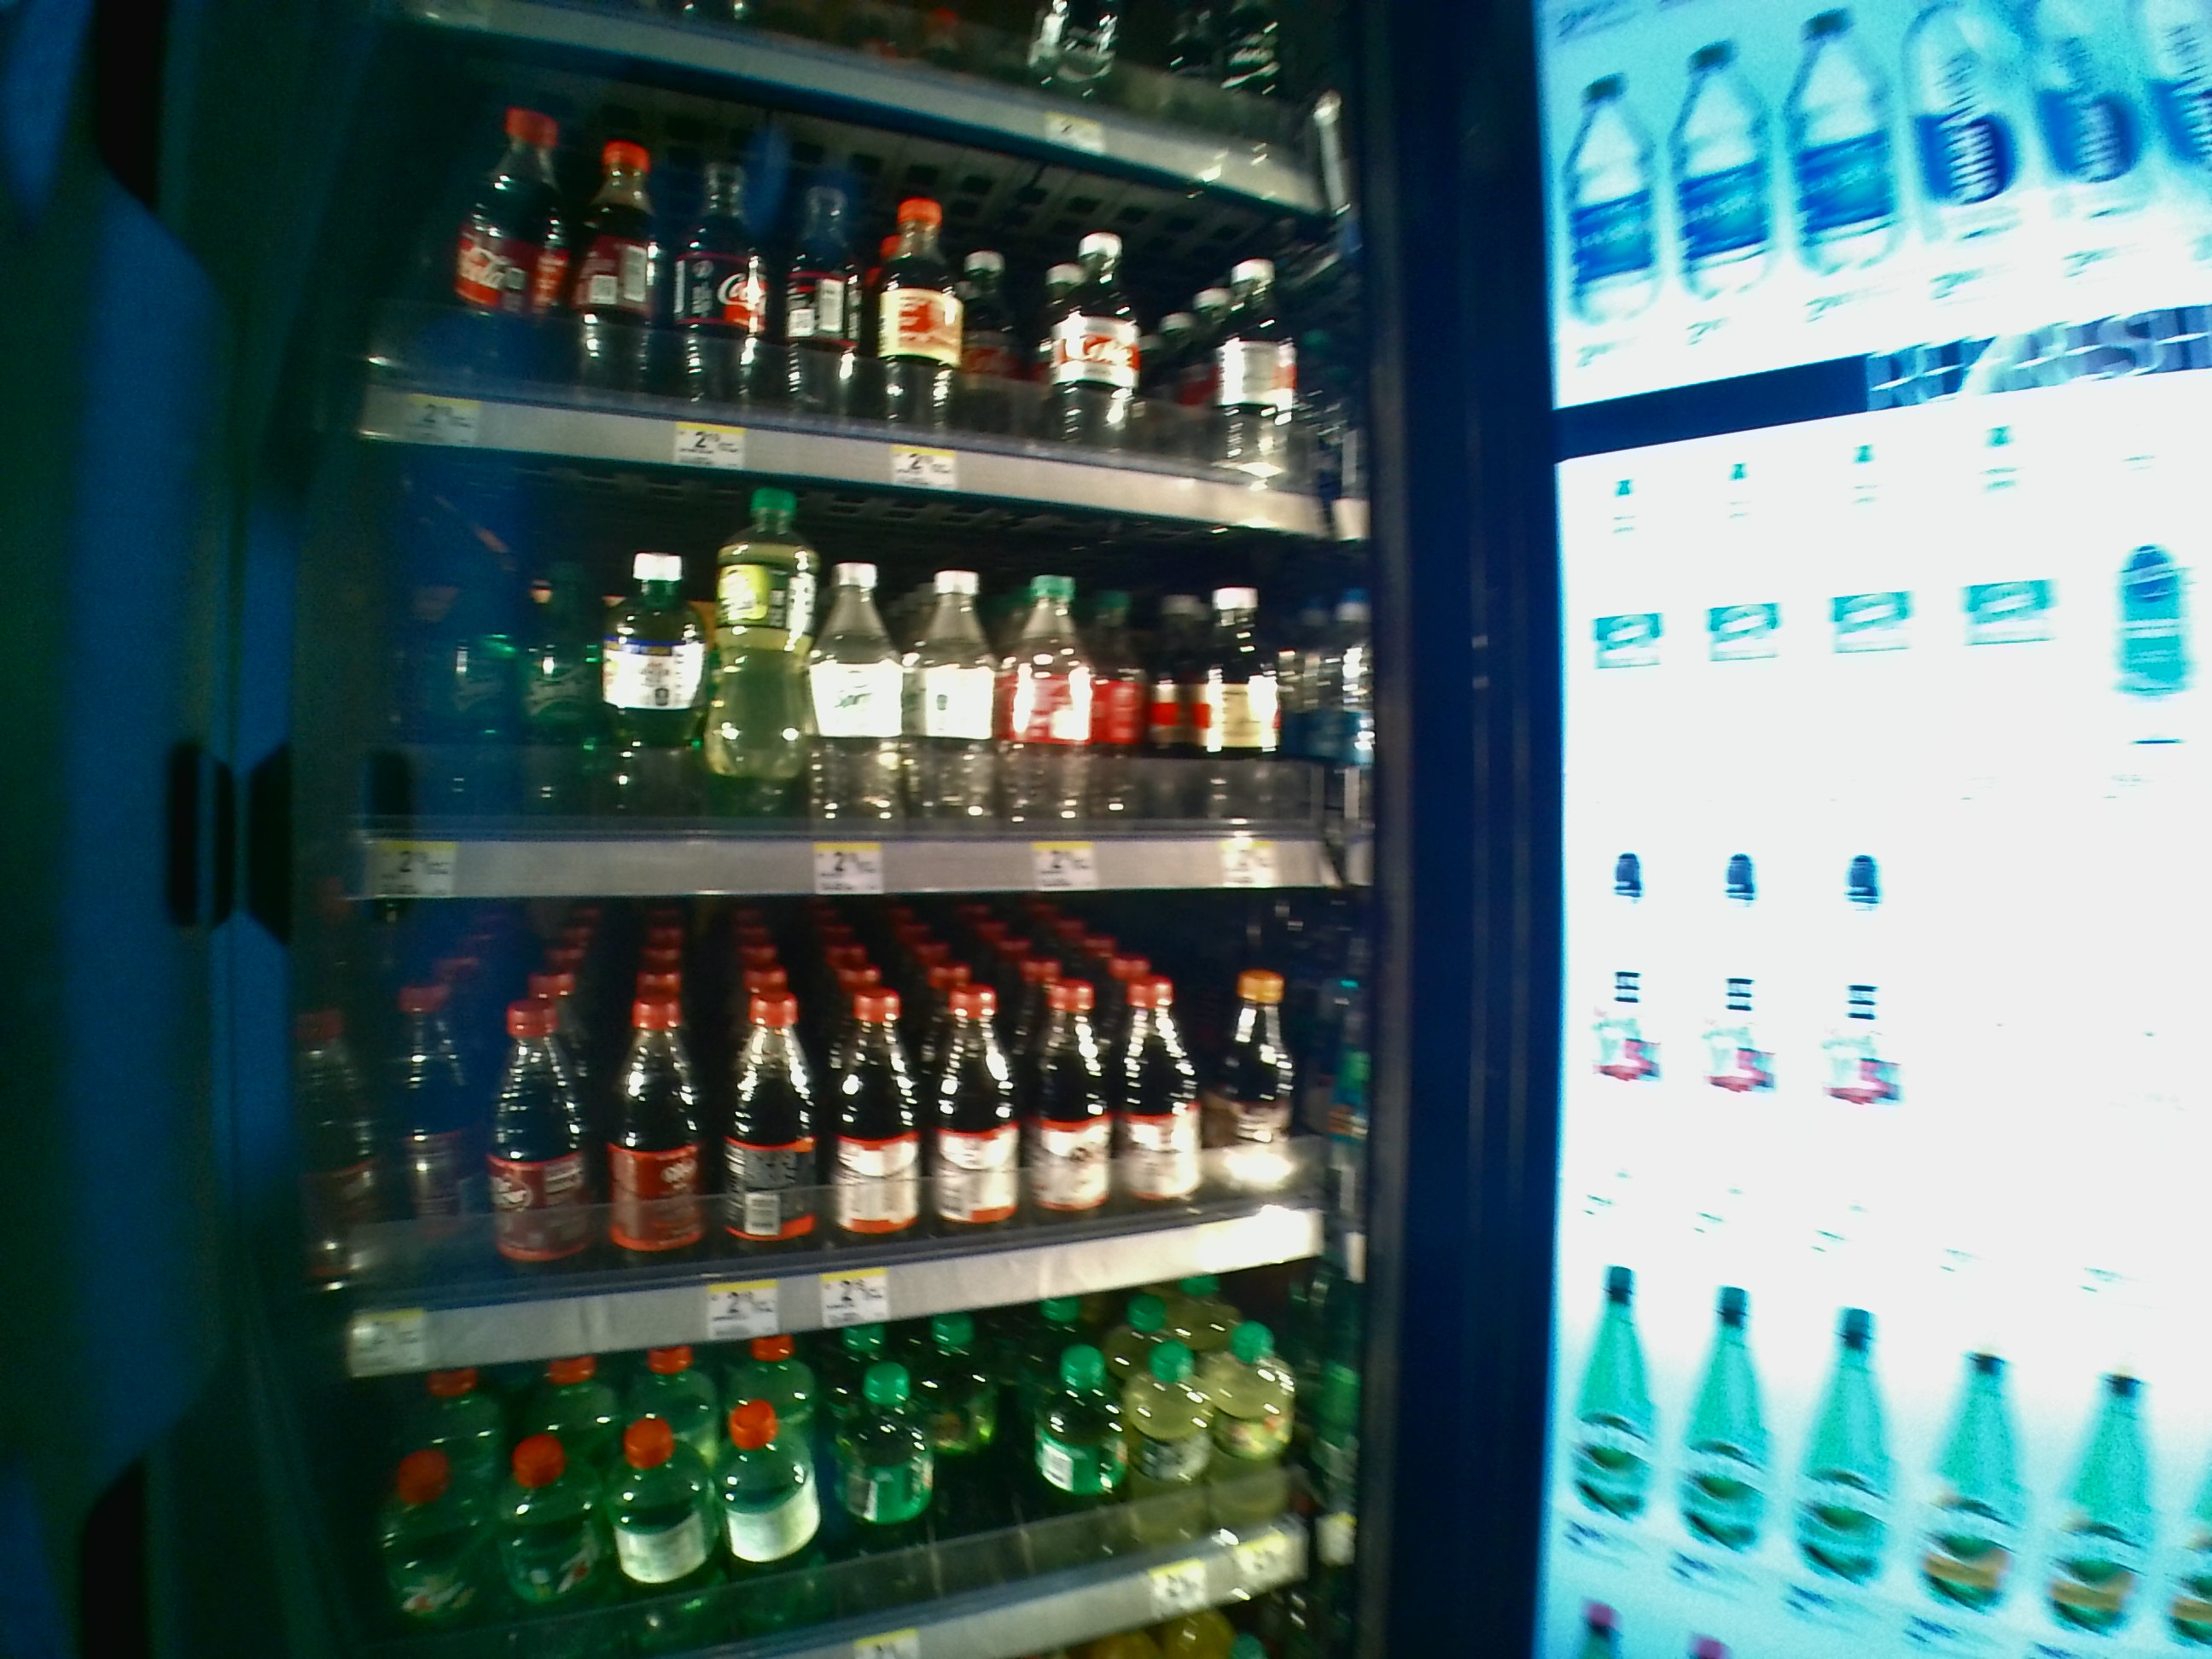shelf: (350, 910, 1366, 1364), (354, 453, 1353, 897)
